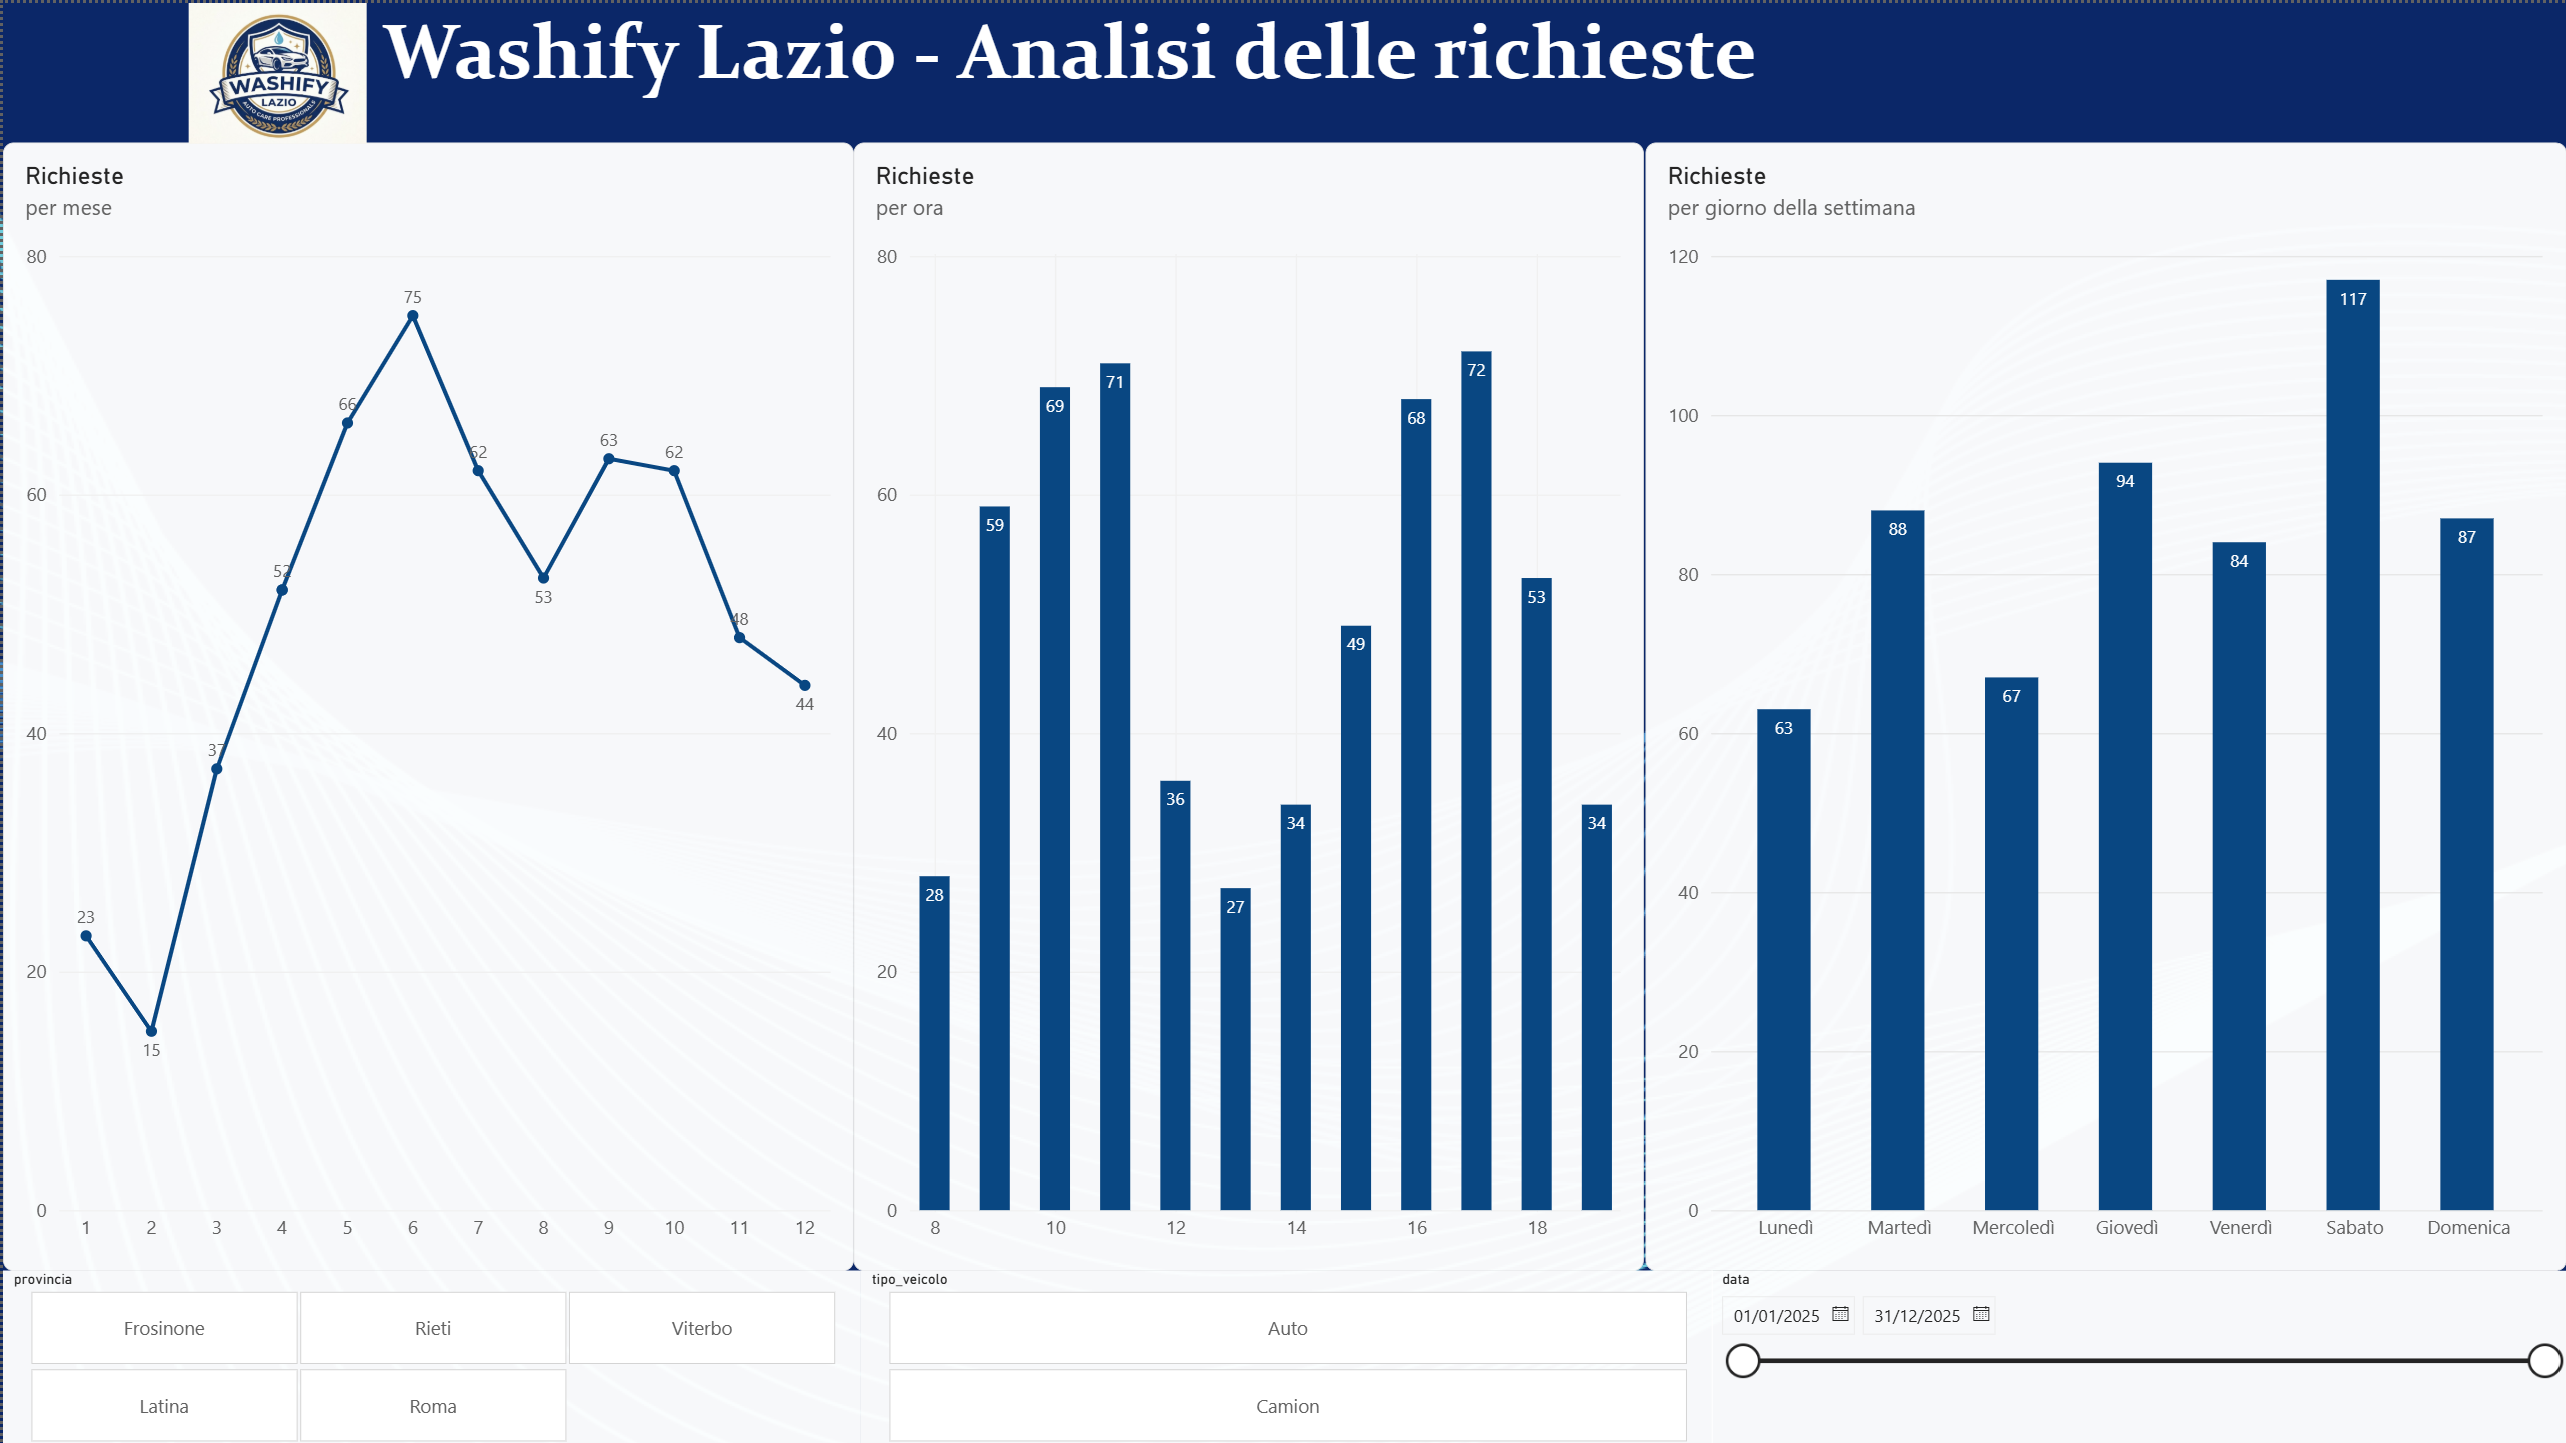

This screenshot's page, from the dashboard's own definition file:
{"tool":"powerbi","page":{"name":"Andamento nel tempo","canvas":[1920,1080],"ordinal":1},"visuals":[{"type":"lineChart","fields":{"Category":["dim_tempo.mese"],"Y":["fact_richieste.Richieste"]},"box":[0,104.8,637.6,845.1],"z":0},{"type":"clusteredColumnChart","fields":{"Category":["fact_richieste.ora"],"Y":["fact_richieste.Richieste"]},"box":[637.6,104.8,592.2,845.1],"z":1000},{"type":"clusteredColumnChart","title":"Richieste ","fields":{"Category":["dim_tempo.nome_giorno"],"Y":["fact_richieste.Richieste"]},"box":[1229.8,104.8,689.5,845.1],"z":2000},{"type":"slicer","fields":{"Values":["dim_cliente.provincia"]},"box":[0,949.9,642.5,130.1],"z":3000},{"type":"slicer","fields":{"Values":["dim_prodotto.tipo_veicolo"]},"box":[642.5,949.9,637.8,130.1],"z":4000},{"type":"slicer","fields":{"Values":["dim_tempo.data"]},"box":[1279.9,949.9,640.1,130.1],"z":5000},{"type":"textbox","box":[284.6,0,1301.2,104.6],"z":6000},{"type":"image","box":[137,0,137,105.4],"z":7000}]}

Visuals, with their boxes in screenshot pixels (x1, y1, x2, y2), scaled from the page's 1920x1080 canvas onto the 2566x1443 screenshot:
lineChart - dim_tempo.mese x fact_richieste.Richieste: [0,140,852,1269]
clusteredColumnChart - fact_richieste.ora x fact_richieste.Richieste: [852,140,1644,1269]
"Richieste " clusteredColumnChart: [1644,140,2565,1269]
slicer - dim_cliente.provincia: [0,1269,859,1442]
slicer - dim_prodotto.tipo_veicolo: [859,1269,1711,1442]
slicer - dim_tempo.data: [1711,1269,2565,1442]
textbox: [380,0,2119,140]
image: [183,0,366,141]
